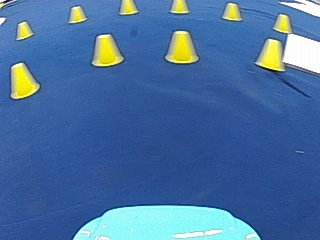cone: (165, 29, 198, 64), (9, 61, 40, 98), (91, 33, 123, 67), (255, 38, 284, 70), (221, 2, 241, 21), (272, 13, 291, 33), (15, 20, 33, 39), (68, 5, 86, 23), (119, 0, 137, 15), (170, 0, 188, 14)
